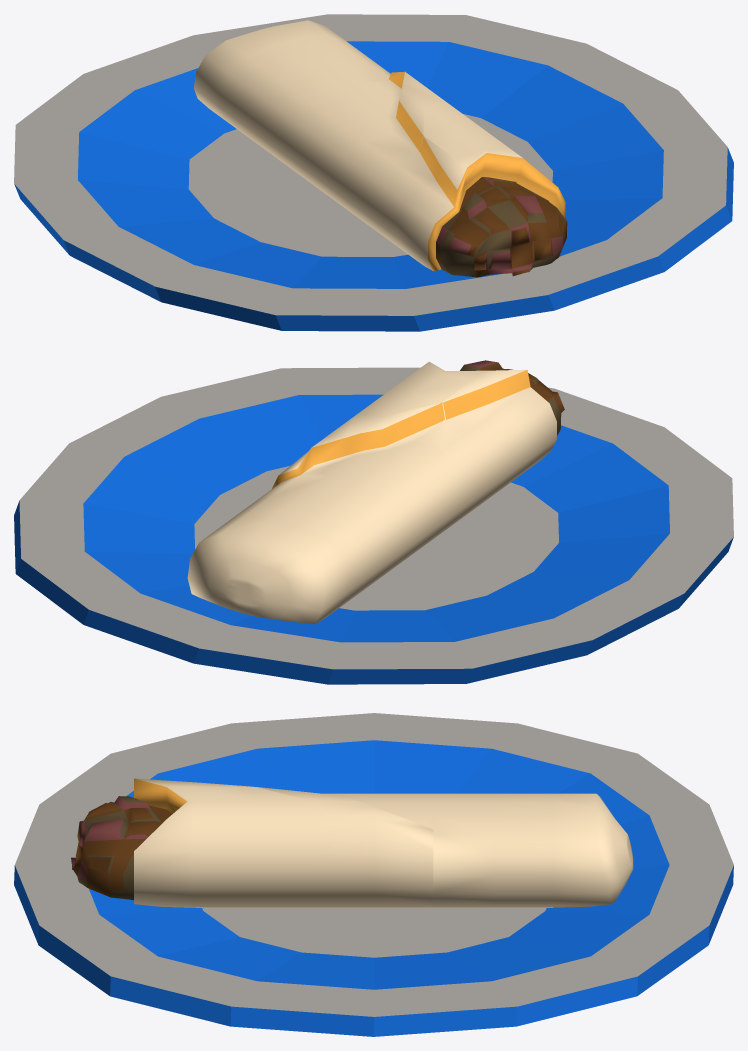
Rendered from Asset_10_burrito-mole.fbx.
3 views of the same model, one above another, from view 1: azimuth 30°, elevation 25°; view 2: azimuth 150°, elevation 25°; view 3: azimuth 270°, elevation 25° (orthographic).
Parts seen in each view (by area): view 1: plato, tortilla, carne; view 2: plato, tortilla, carne; view 3: plato, tortilla, carne.
Part boxes in pixels (<box>): plato: <box>14,14,733,331</box>; tortilla: <box>193,20,565,271</box>; carne: <box>436,177,567,277</box>; plato: <box>14,367,733,684</box>; tortilla: <box>187,361,556,624</box>; carne: <box>460,360,564,434</box>; plato: <box>14,713,733,1036</box>; tortilla: <box>134,778,633,907</box>; carne: <box>71,796,172,900</box>.
Size of the model in its own units: 1573 by 307 by 1559.
